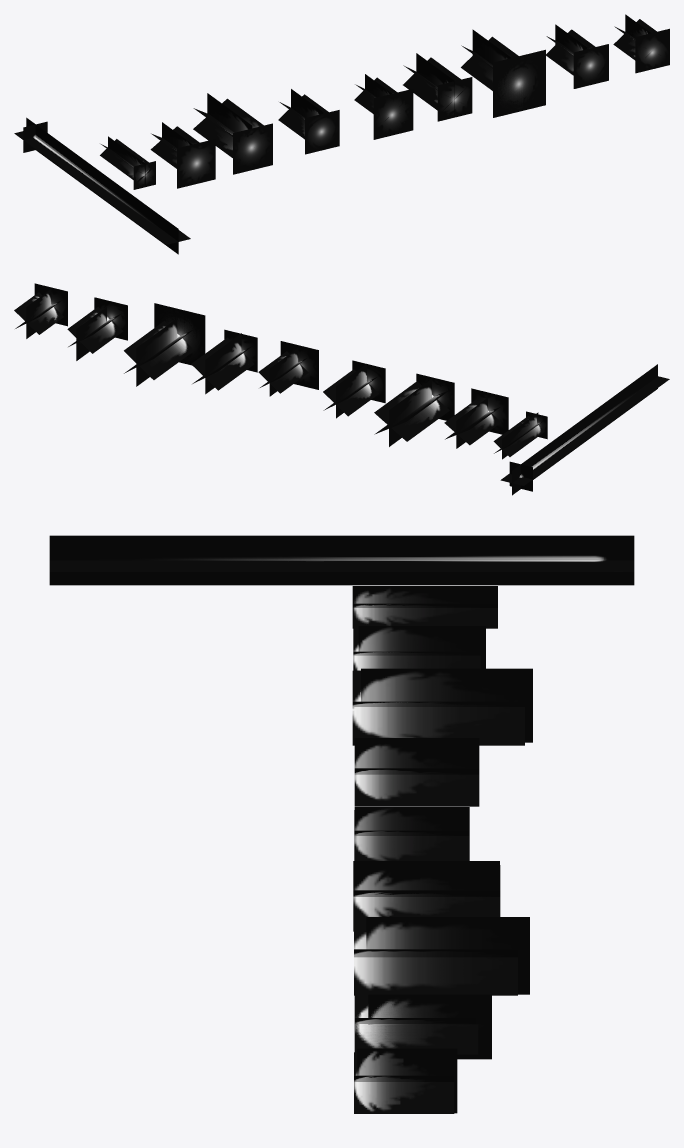
The model's file is muzzle_flash_particles.fbx.
3 views of the same model, one above another, from view 1: azimuth 30°, elevation 25°; view 2: azimuth 150°, elevation 25°; view 3: azimuth 270°, elevation 25° (orthographic). The views are drawn at different scales.
Parts seen in each view (by area): view 1: muzzle_flash_particle_g, muzzle_flash_particle_line, muzzle_flash_particle_c, muzzle_flash_particle_f, muzzle_flash_particle_b, muzzle_flash_particle_h, muzzle_flash_particle_e, muzzle_flash_particle_d, muzzle_flash_particle_i, muzzle_flash_particle_a; view 2: muzzle_flash_particle_line, muzzle_flash_particle_g, muzzle_flash_particle_c, muzzle_flash_particle_f, muzzle_flash_particle_b, muzzle_flash_particle_h, muzzle_flash_particle_d, muzzle_flash_particle_e, muzzle_flash_particle_i, muzzle_flash_particle_a; view 3: muzzle_flash_particle_line, muzzle_flash_particle_g, muzzle_flash_particle_c, muzzle_flash_particle_d, muzzle_flash_particle_f, muzzle_flash_particle_h, muzzle_flash_particle_i, muzzle_flash_particle_e, muzzle_flash_particle_a, muzzle_flash_particle_b.
Boxes of the visible parts, x1,y1,x2,y2 form: muzzle_flash_particle_g: (461,29,545,117); muzzle_flash_particle_line: (14,117,190,254); muzzle_flash_particle_c: (193,93,272,174); muzzle_flash_particle_f: (403,53,472,121); muzzle_flash_particle_b: (150,122,215,188); muzzle_flash_particle_h: (546,24,608,88); muzzle_flash_particle_e: (354,74,413,139); muzzle_flash_particle_d: (278,89,339,154); muzzle_flash_particle_i: (613,14,669,73); muzzle_flash_particle_a: (100,136,155,189); muzzle_flash_particle_line: (500,364,669,495); muzzle_flash_particle_g: (124,303,205,386); muzzle_flash_particle_c: (374,373,454,446); muzzle_flash_particle_f: (191,329,257,394); muzzle_flash_particle_b: (444,388,508,448); muzzle_flash_particle_h: (67,297,127,360); muzzle_flash_particle_d: (323,360,385,418); muzzle_flash_particle_e: (258,341,318,396); muzzle_flash_particle_i: (14,283,67,338); muzzle_flash_particle_a: (493,411,547,459); muzzle_flash_particle_line: (49,535,634,585); muzzle_flash_particle_g: (354,917,529,995); muzzle_flash_particle_c: (352,668,532,745); muzzle_flash_particle_d: (354,738,479,806); muzzle_flash_particle_f: (353,861,500,931); muzzle_flash_particle_h: (354,992,491,1059); muzzle_flash_particle_i: (354,1048,457,1113); muzzle_flash_particle_e: (354,807,469,860); muzzle_flash_particle_a: (352,586,497,628); muzzle_flash_particle_b: (353,626,485,670).
Size of the model in its own units: 476 by 43.36 by 216.
1 material, 1 textured.
